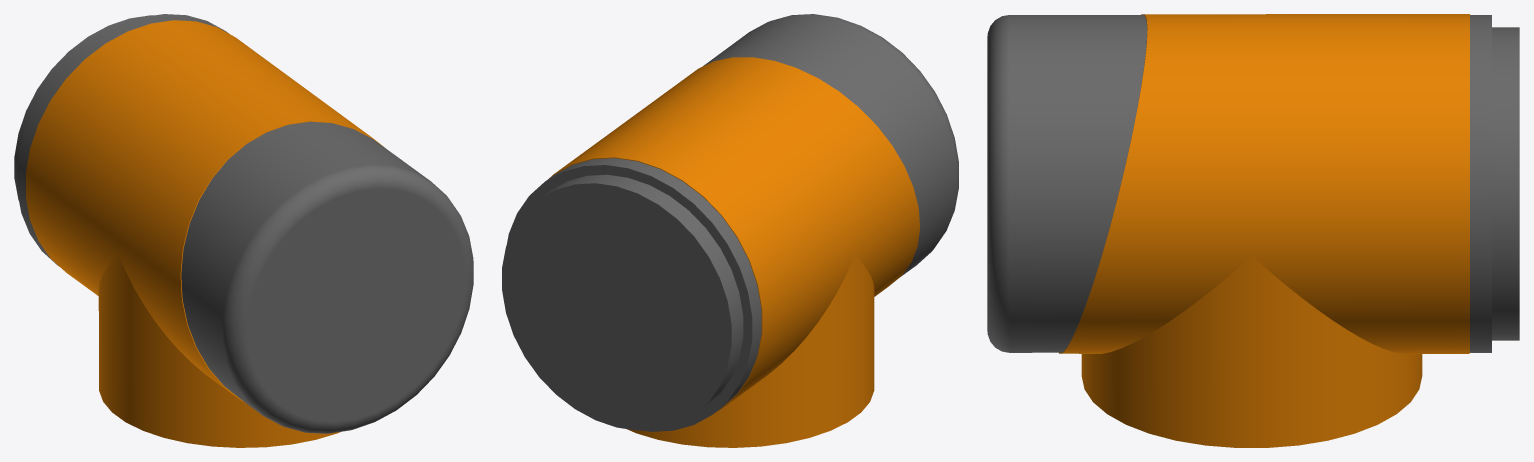
The picture shows the model from 3 angles, left to right: view 1: azimuth 30°, elevation 25°; view 2: azimuth 150°, elevation 25°; view 3: azimuth 270°, elevation 25°; orthographic projection. The views are drawn at different scales.
Visible parts, largest first — view 1: NONE; view 2: NONE; view 3: NONE.
Part boxes in pixels (x1=…): NONE: x1=14, y1=14, x2=473, y2=447; NONE: x1=502, y1=14, x2=958, y2=447; NONE: x1=987, y1=14, x2=1519, y2=447.
Size of the model in its own units: 0.077 by 0.1203 by 0.0865.
